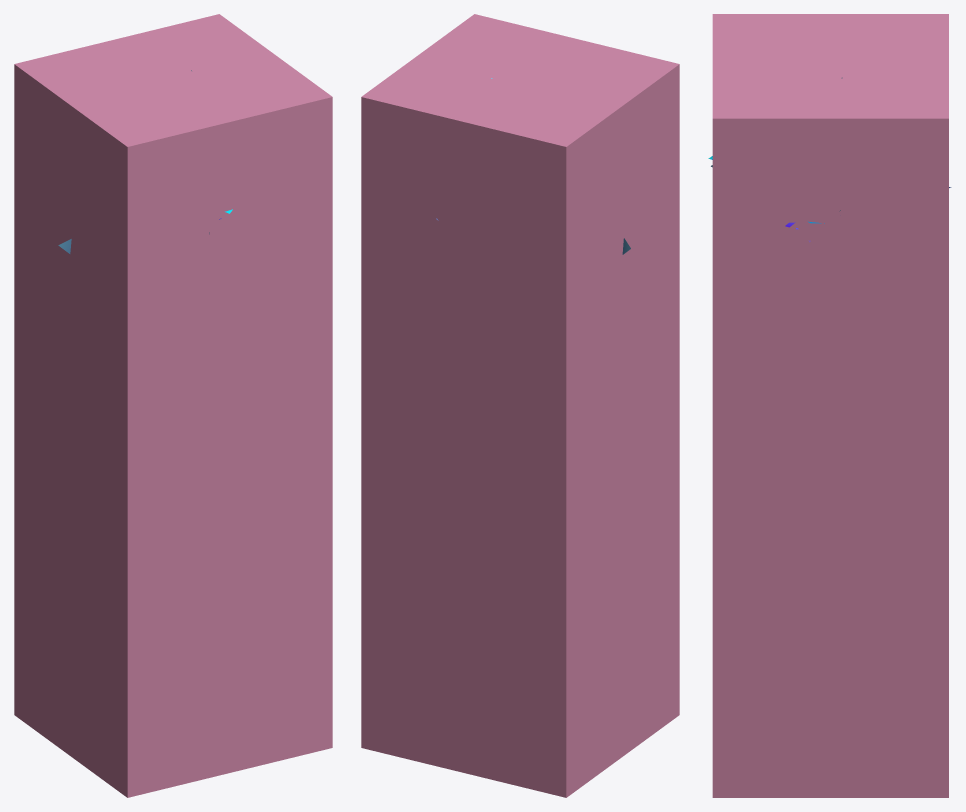
The model's file is tree_aspen_forest_a.dae.
The picture shows the model from 3 angles, left to right: view 1: azimuth 30°, elevation 25°; view 2: azimuth 150°, elevation 25°; view 3: azimuth 270°, elevation 25°; orthographic projection. The views are drawn at different scales.
Parts seen in each view (by area): view 1: Untitled; view 2: Untitled; view 3: Untitled.
Part boxes in pixels (x1,y1,x2,y2): Untitled: [14, 14, 332, 797]; Untitled: [361, 14, 679, 797]; Untitled: [712, 14, 948, 797].
Bounding box in the file's own units: 5.58 × 5.07 × 15.63.
